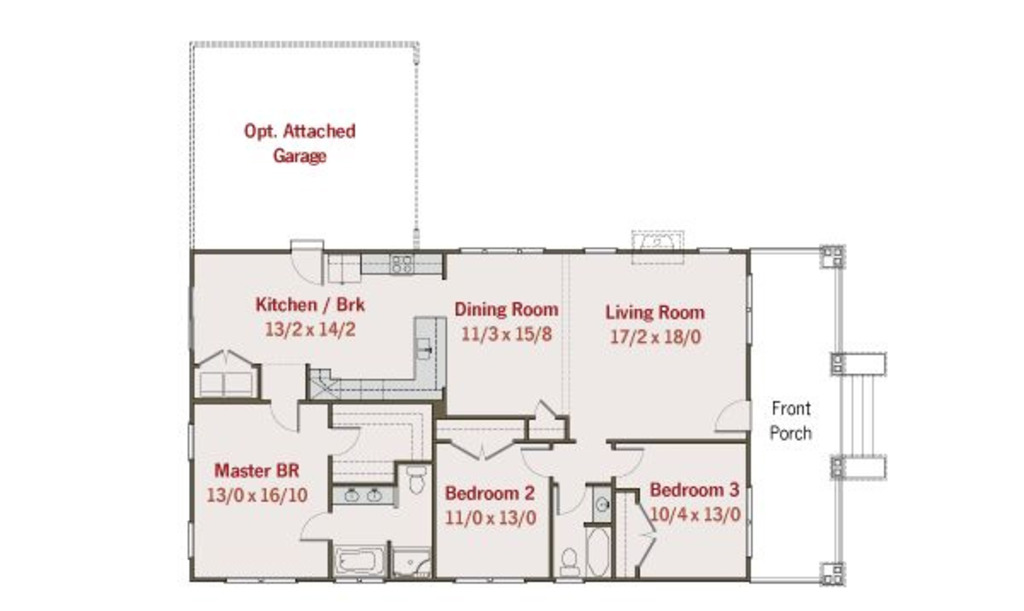door: (628, 501, 662, 575), (290, 238, 330, 295), (442, 435, 513, 467), (705, 399, 755, 438), (610, 448, 655, 483), (297, 510, 337, 546), (196, 344, 258, 366), (326, 423, 368, 454), (519, 444, 556, 479), (271, 398, 305, 432), (559, 482, 587, 515), (533, 396, 565, 415)
large_sink: (394, 461, 438, 505), (556, 539, 588, 581)
small_sink: (330, 477, 390, 501), (593, 483, 615, 523)
tub: (581, 526, 618, 583), (332, 545, 388, 577)
twin_sink: (410, 330, 440, 369)
window: (457, 244, 552, 257), (220, 571, 295, 587), (747, 276, 760, 345), (187, 422, 202, 464), (578, 243, 615, 259), (457, 574, 522, 583), (188, 522, 201, 562)
